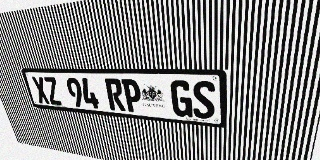4: (79, 78, 100, 109)
9: (65, 77, 86, 108)
G: (170, 80, 193, 117)
P: (121, 79, 143, 113)
R: (104, 78, 126, 111)
S: (192, 81, 215, 120)
X: (31, 77, 51, 104)
Z: (43, 77, 63, 105)
